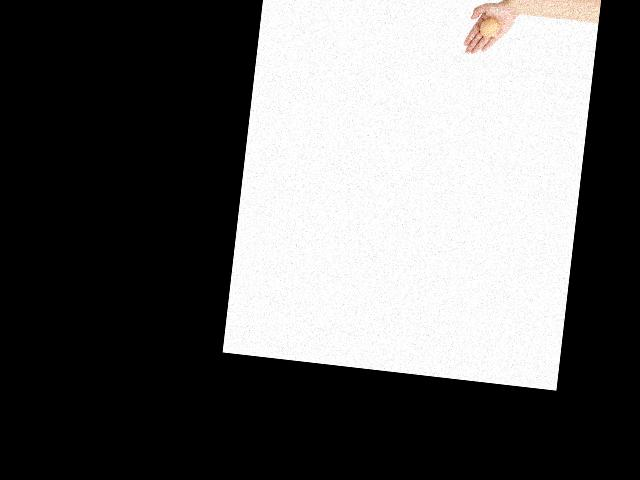egg: (479, 15, 501, 37)
